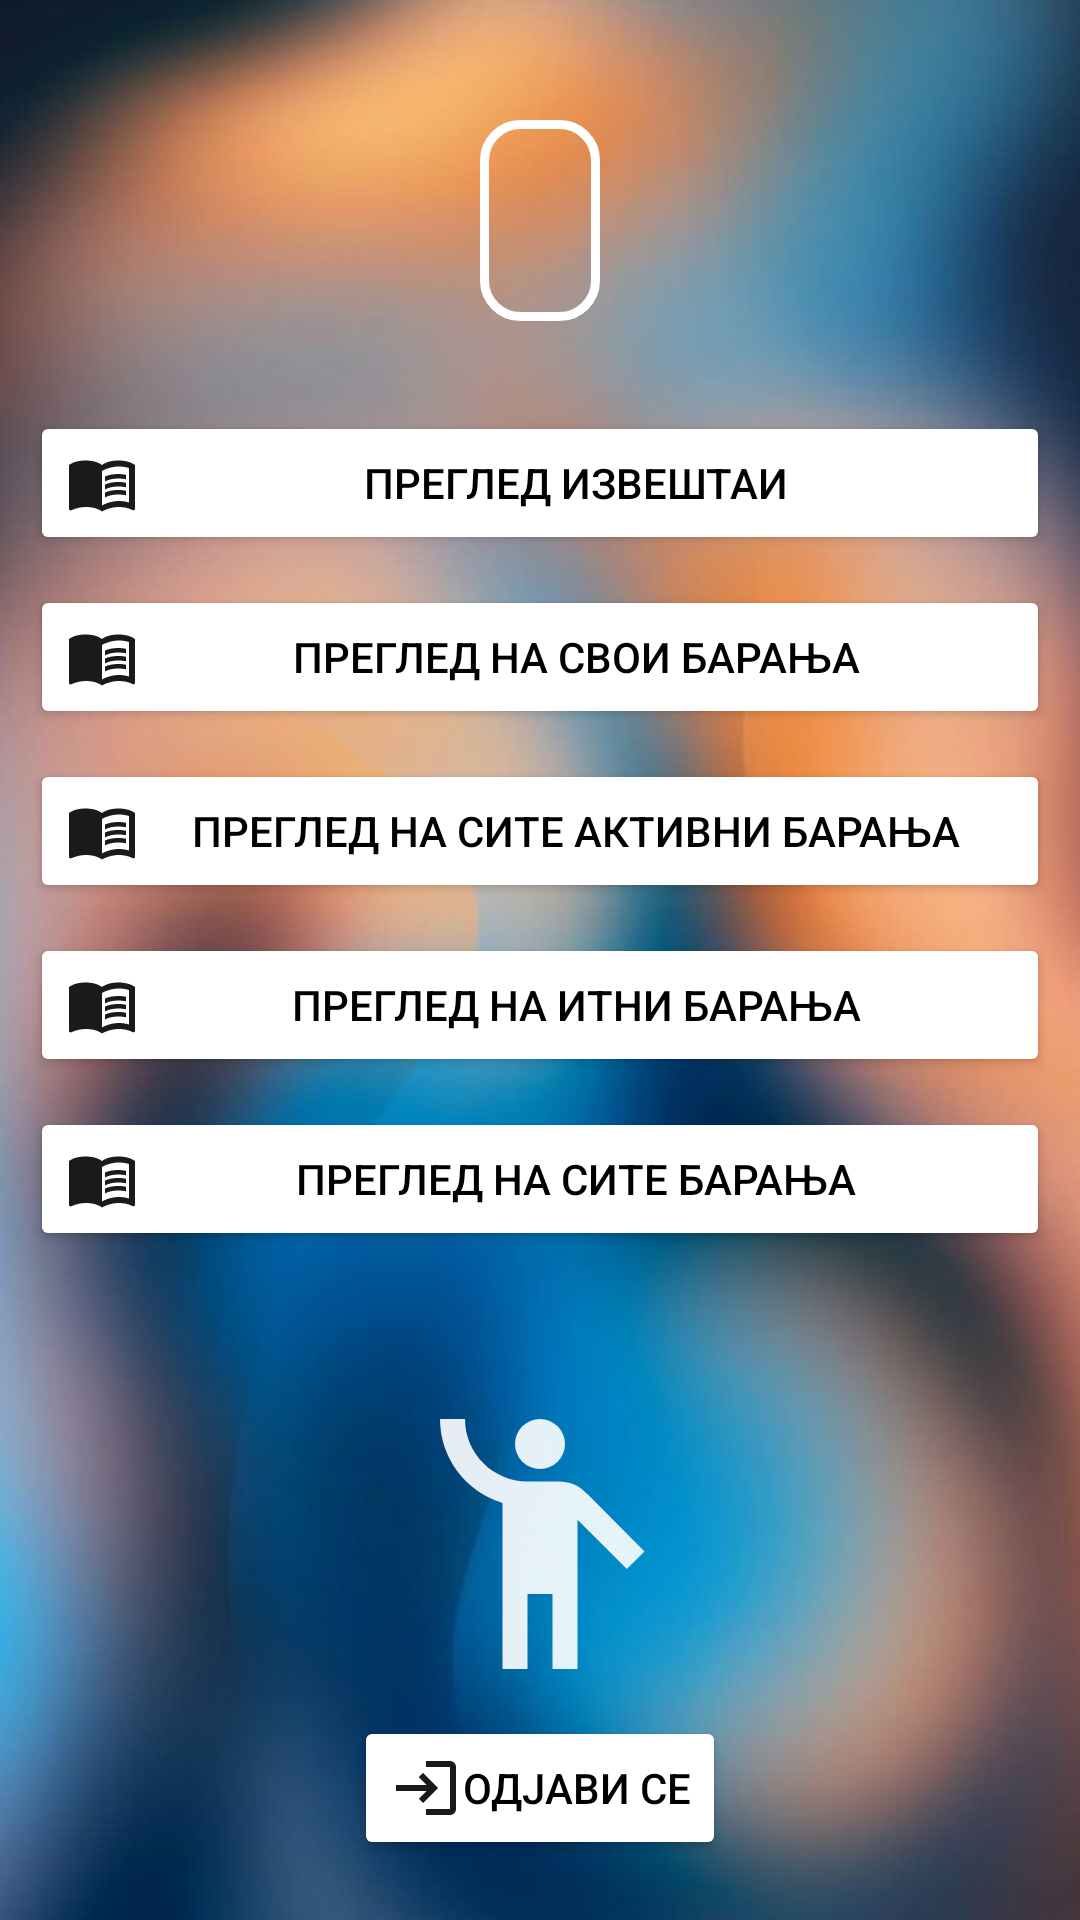

Screen size 1080×1920. Icon name, then its center in pixels as (x,y):
emoji people: (540,1544)
